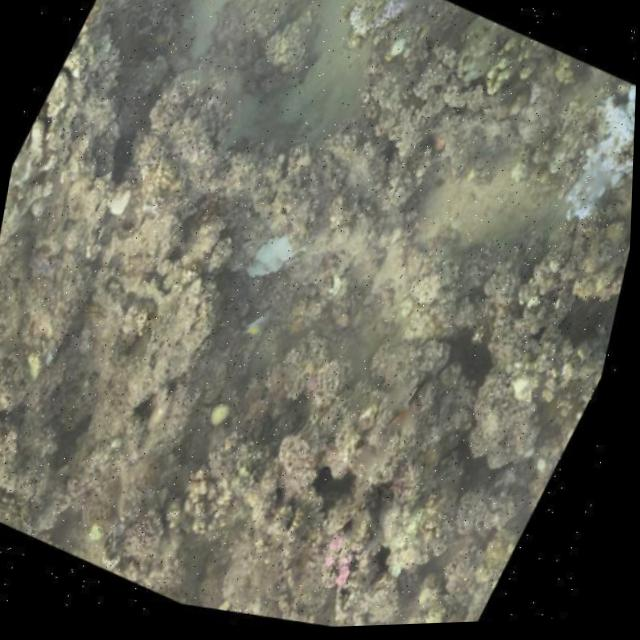Bleached Coral: (552, 62, 638, 258), (329, 0, 417, 68)
